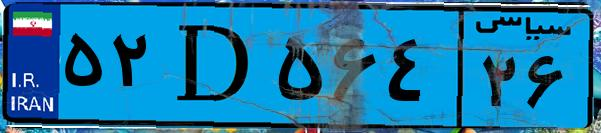2: (475, 38, 525, 113), (110, 28, 158, 98)
4: (385, 28, 445, 110)
5: (270, 28, 330, 110), (57, 26, 110, 100)
6: (330, 28, 385, 110), (525, 38, 570, 115)
D: (158, 12, 270, 120)
